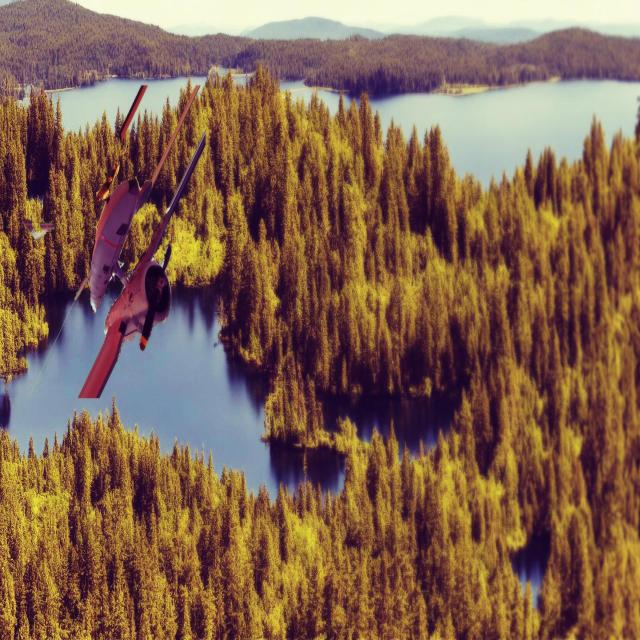airplane: (74, 80, 206, 398)
